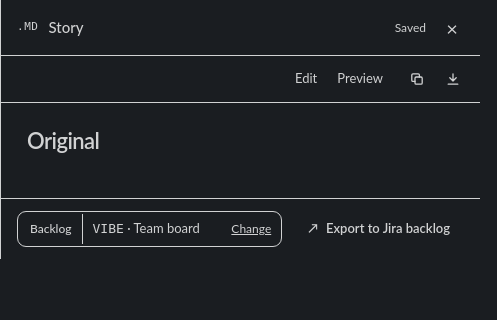
Test: Jira export in the document panel › should put the backlog back as it was when the person cancels the project search
Click the button with aria-label "Change the Jira project" at (251, 229), box [221,221,281,237]
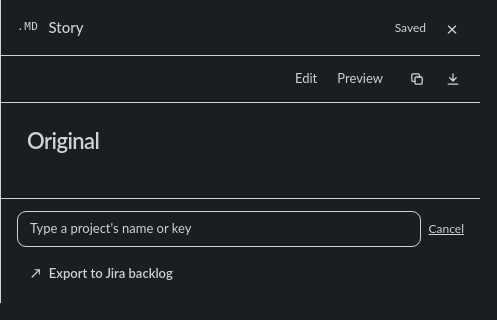
Press Escape in the dropdown named "Search your Jira projects", box [17,211,420,247]
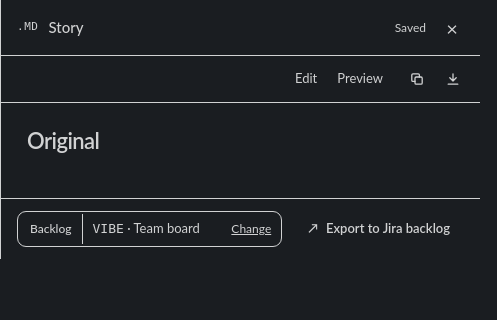
Expected: the button with aria-label "Change the Jira project, now VIBE" is shown, [221,221,281,237]
